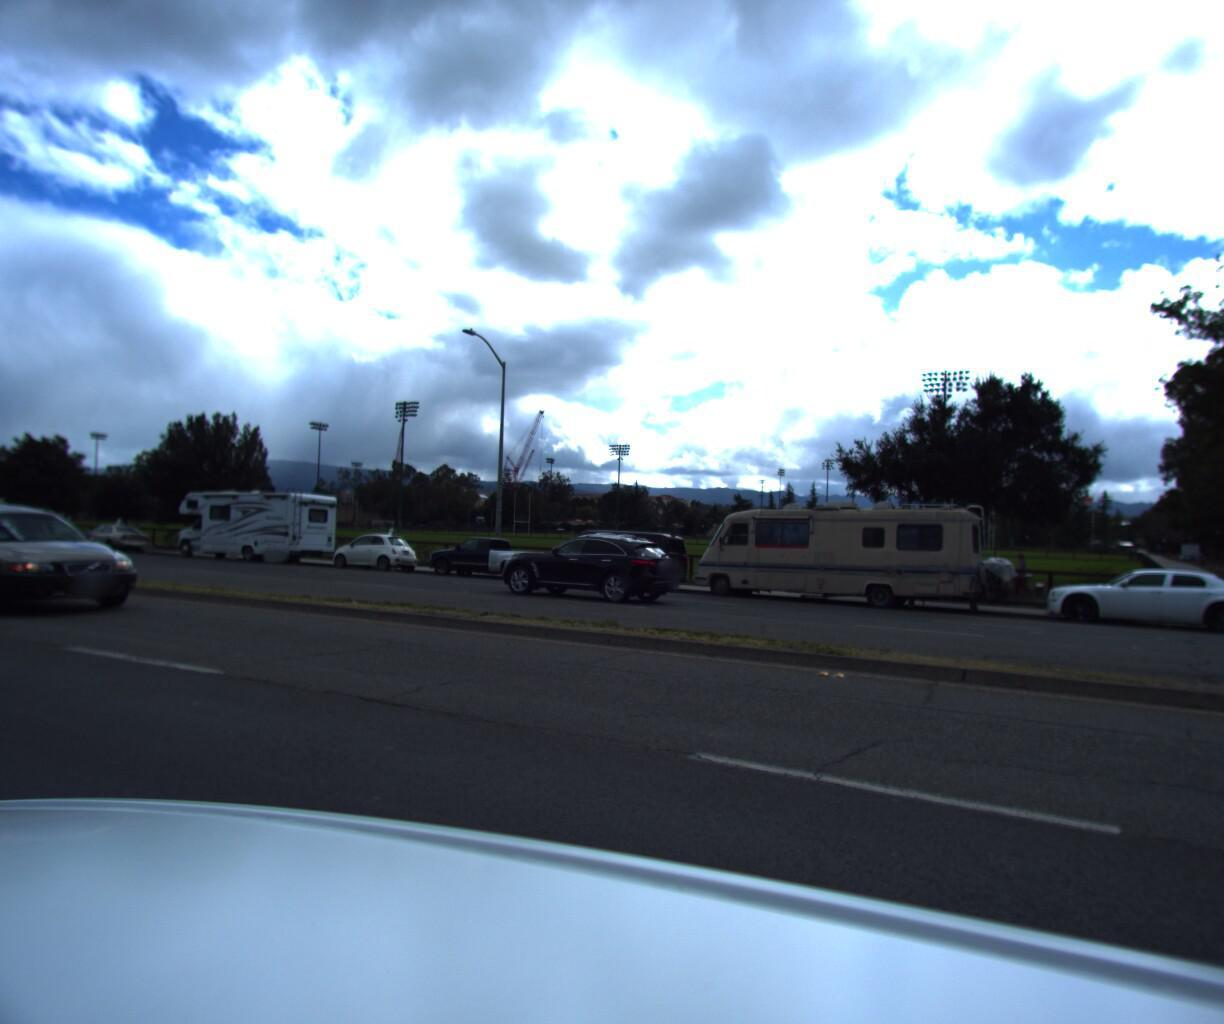car: (491, 524, 699, 609), (1037, 562, 1224, 642), (535, 527, 693, 597), (418, 535, 562, 587), (322, 532, 423, 578), (64, 524, 159, 557)
other_vehicle: (678, 493, 1028, 626), (156, 482, 346, 569)
